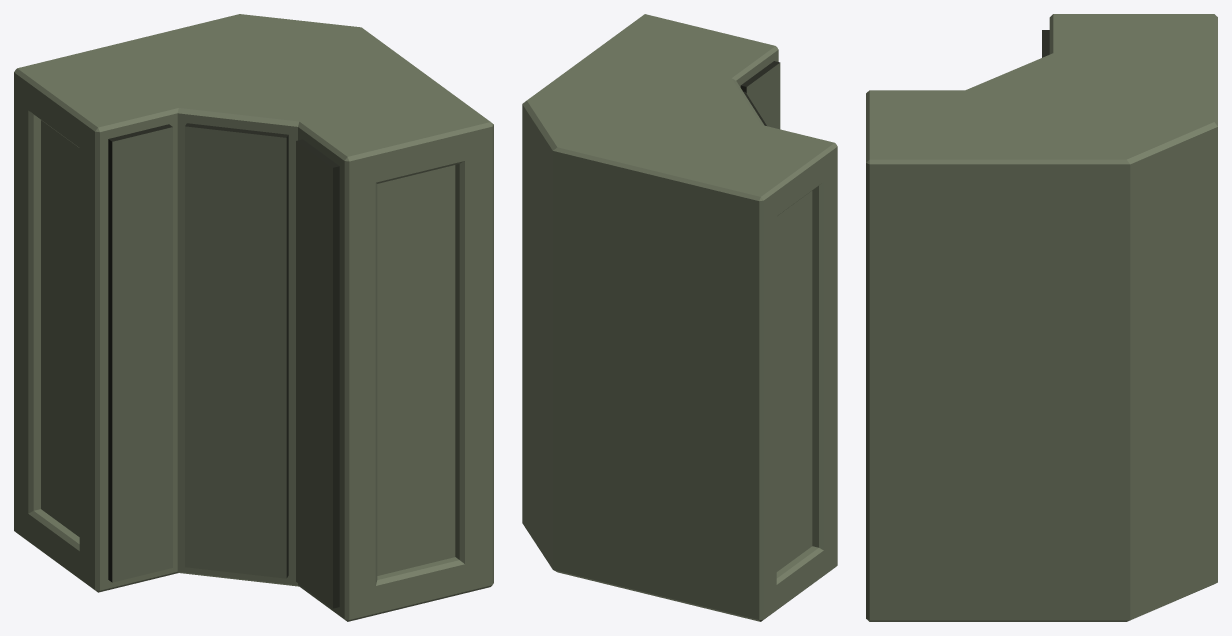
The model's file is CornerHangingCabinet.fbx.
3 views of the same model, side by side, from view 1: azimuth 30°, elevation 25°; view 2: azimuth 150°, elevation 25°; view 3: azimuth 270°, elevation 25° (orthographic). The views are drawn at different scales.
Parts seen in each view (by area): view 1: Corner Hanging Cabinet; view 2: Corner Hanging Cabinet; view 3: Corner Hanging Cabinet.
Boxes of the visible parts, box(x1,y1,x2,y2) form: Corner Hanging Cabinet: box(14, 14, 493, 621); Corner Hanging Cabinet: box(522, 14, 837, 621); Corner Hanging Cabinet: box(866, 14, 1217, 621).
Bounding box in the file's own units: 103 × 150 × 103.
Materials: 1 (1 with a texture image).
